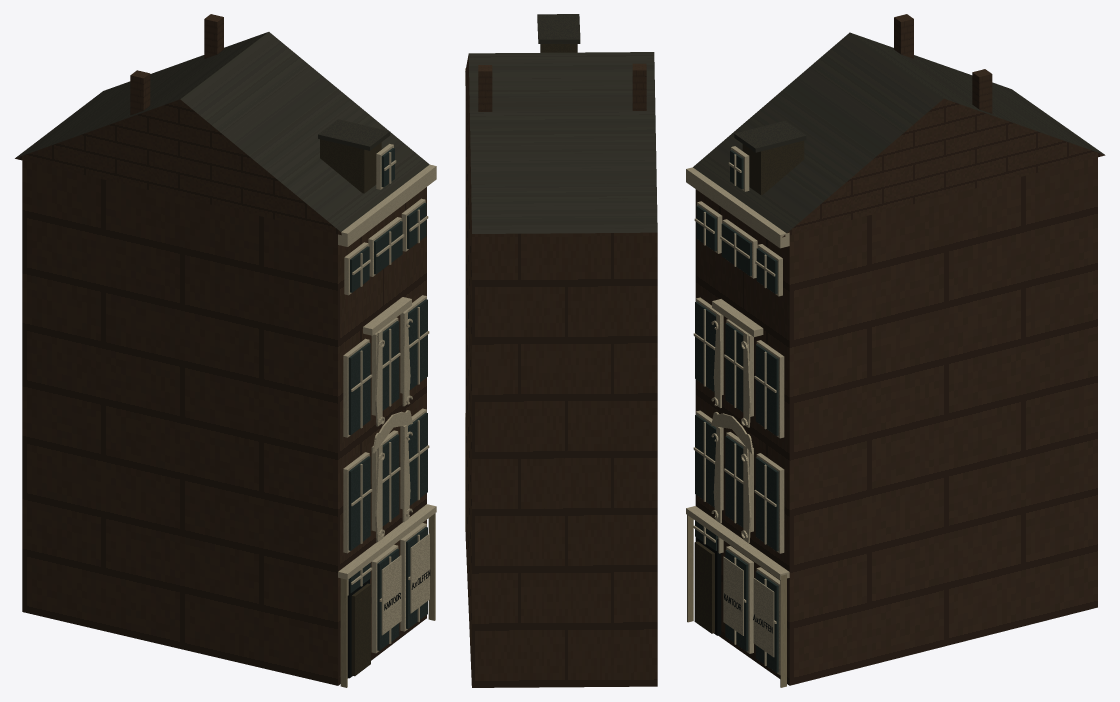
3 renders of one model, left to right at view 1: azimuth 30°, elevation 25°; view 2: azimuth 150°, elevation 25°; view 3: azimuth 270°, elevation 25°, orthographic.
Visible parts, largest first — view 1: haringvliet87-0, haringvliet87-1, haringvliet87-2, haringvliet87-3, haringvliet87-5, haringvliet87-6, haringvliet87-4; view 2: haringvliet87-0, haringvliet87-1, haringvliet87-5; view 3: haringvliet87-0, haringvliet87-1, haringvliet87-2, haringvliet87-3, haringvliet87-5, haringvliet87-6, haringvliet87-4.
Boxes of the visible parts, x1,y1,x2,y2 form: haringvliet87-0: [15, 14, 426, 685]; haringvliet87-1: [15, 32, 429, 231]; haringvliet87-2: [338, 144, 436, 653]; haringvliet87-3: [348, 148, 427, 650]; haringvliet87-5: [320, 139, 381, 676]; haringvliet87-6: [340, 513, 435, 687]; haringvliet87-4: [347, 570, 430, 678]; haringvliet87-0: [465, 55, 657, 687]; haringvliet87-1: [468, 14, 657, 233]; haringvliet87-5: [540, 44, 577, 52]; haringvliet87-0: [695, 14, 1104, 685]; haringvliet87-1: [693, 32, 1104, 233]; haringvliet87-2: [686, 146, 789, 674]; haringvliet87-3: [695, 150, 778, 672]; haringvliet87-5: [694, 140, 804, 633]; haringvliet87-6: [687, 515, 786, 687]; haringvliet87-4: [695, 537, 772, 635].
Size of the model in its own units: 9.78 by 17.05 by 11.66.
Materials: 7 (7 with a texture image).
